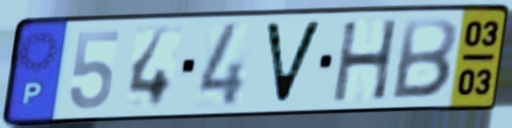4: (196, 20, 249, 110), (126, 24, 177, 111)
5: (66, 27, 123, 112)
B: (387, 16, 461, 101)
H: (331, 16, 402, 105)
V: (261, 19, 327, 108)
